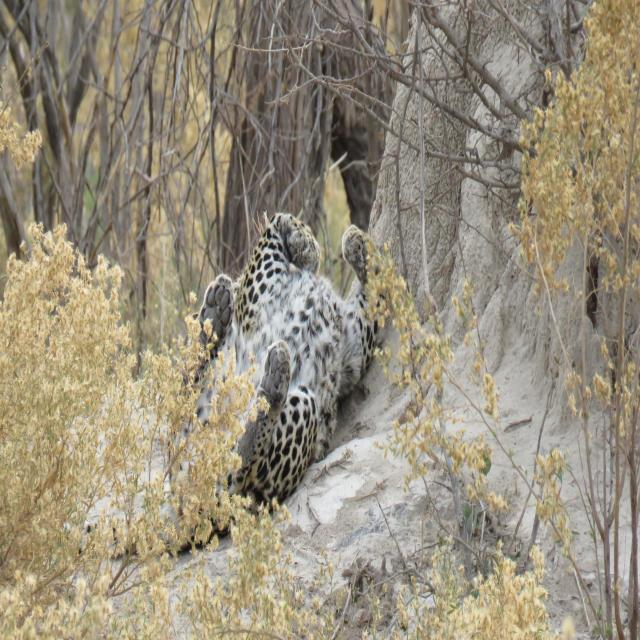Leopard: (53, 202, 389, 560)
